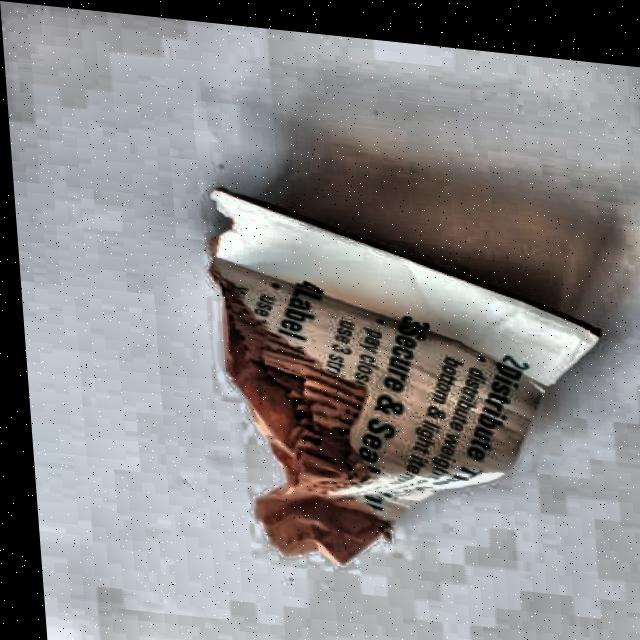cardboard: (199, 184, 620, 594)
